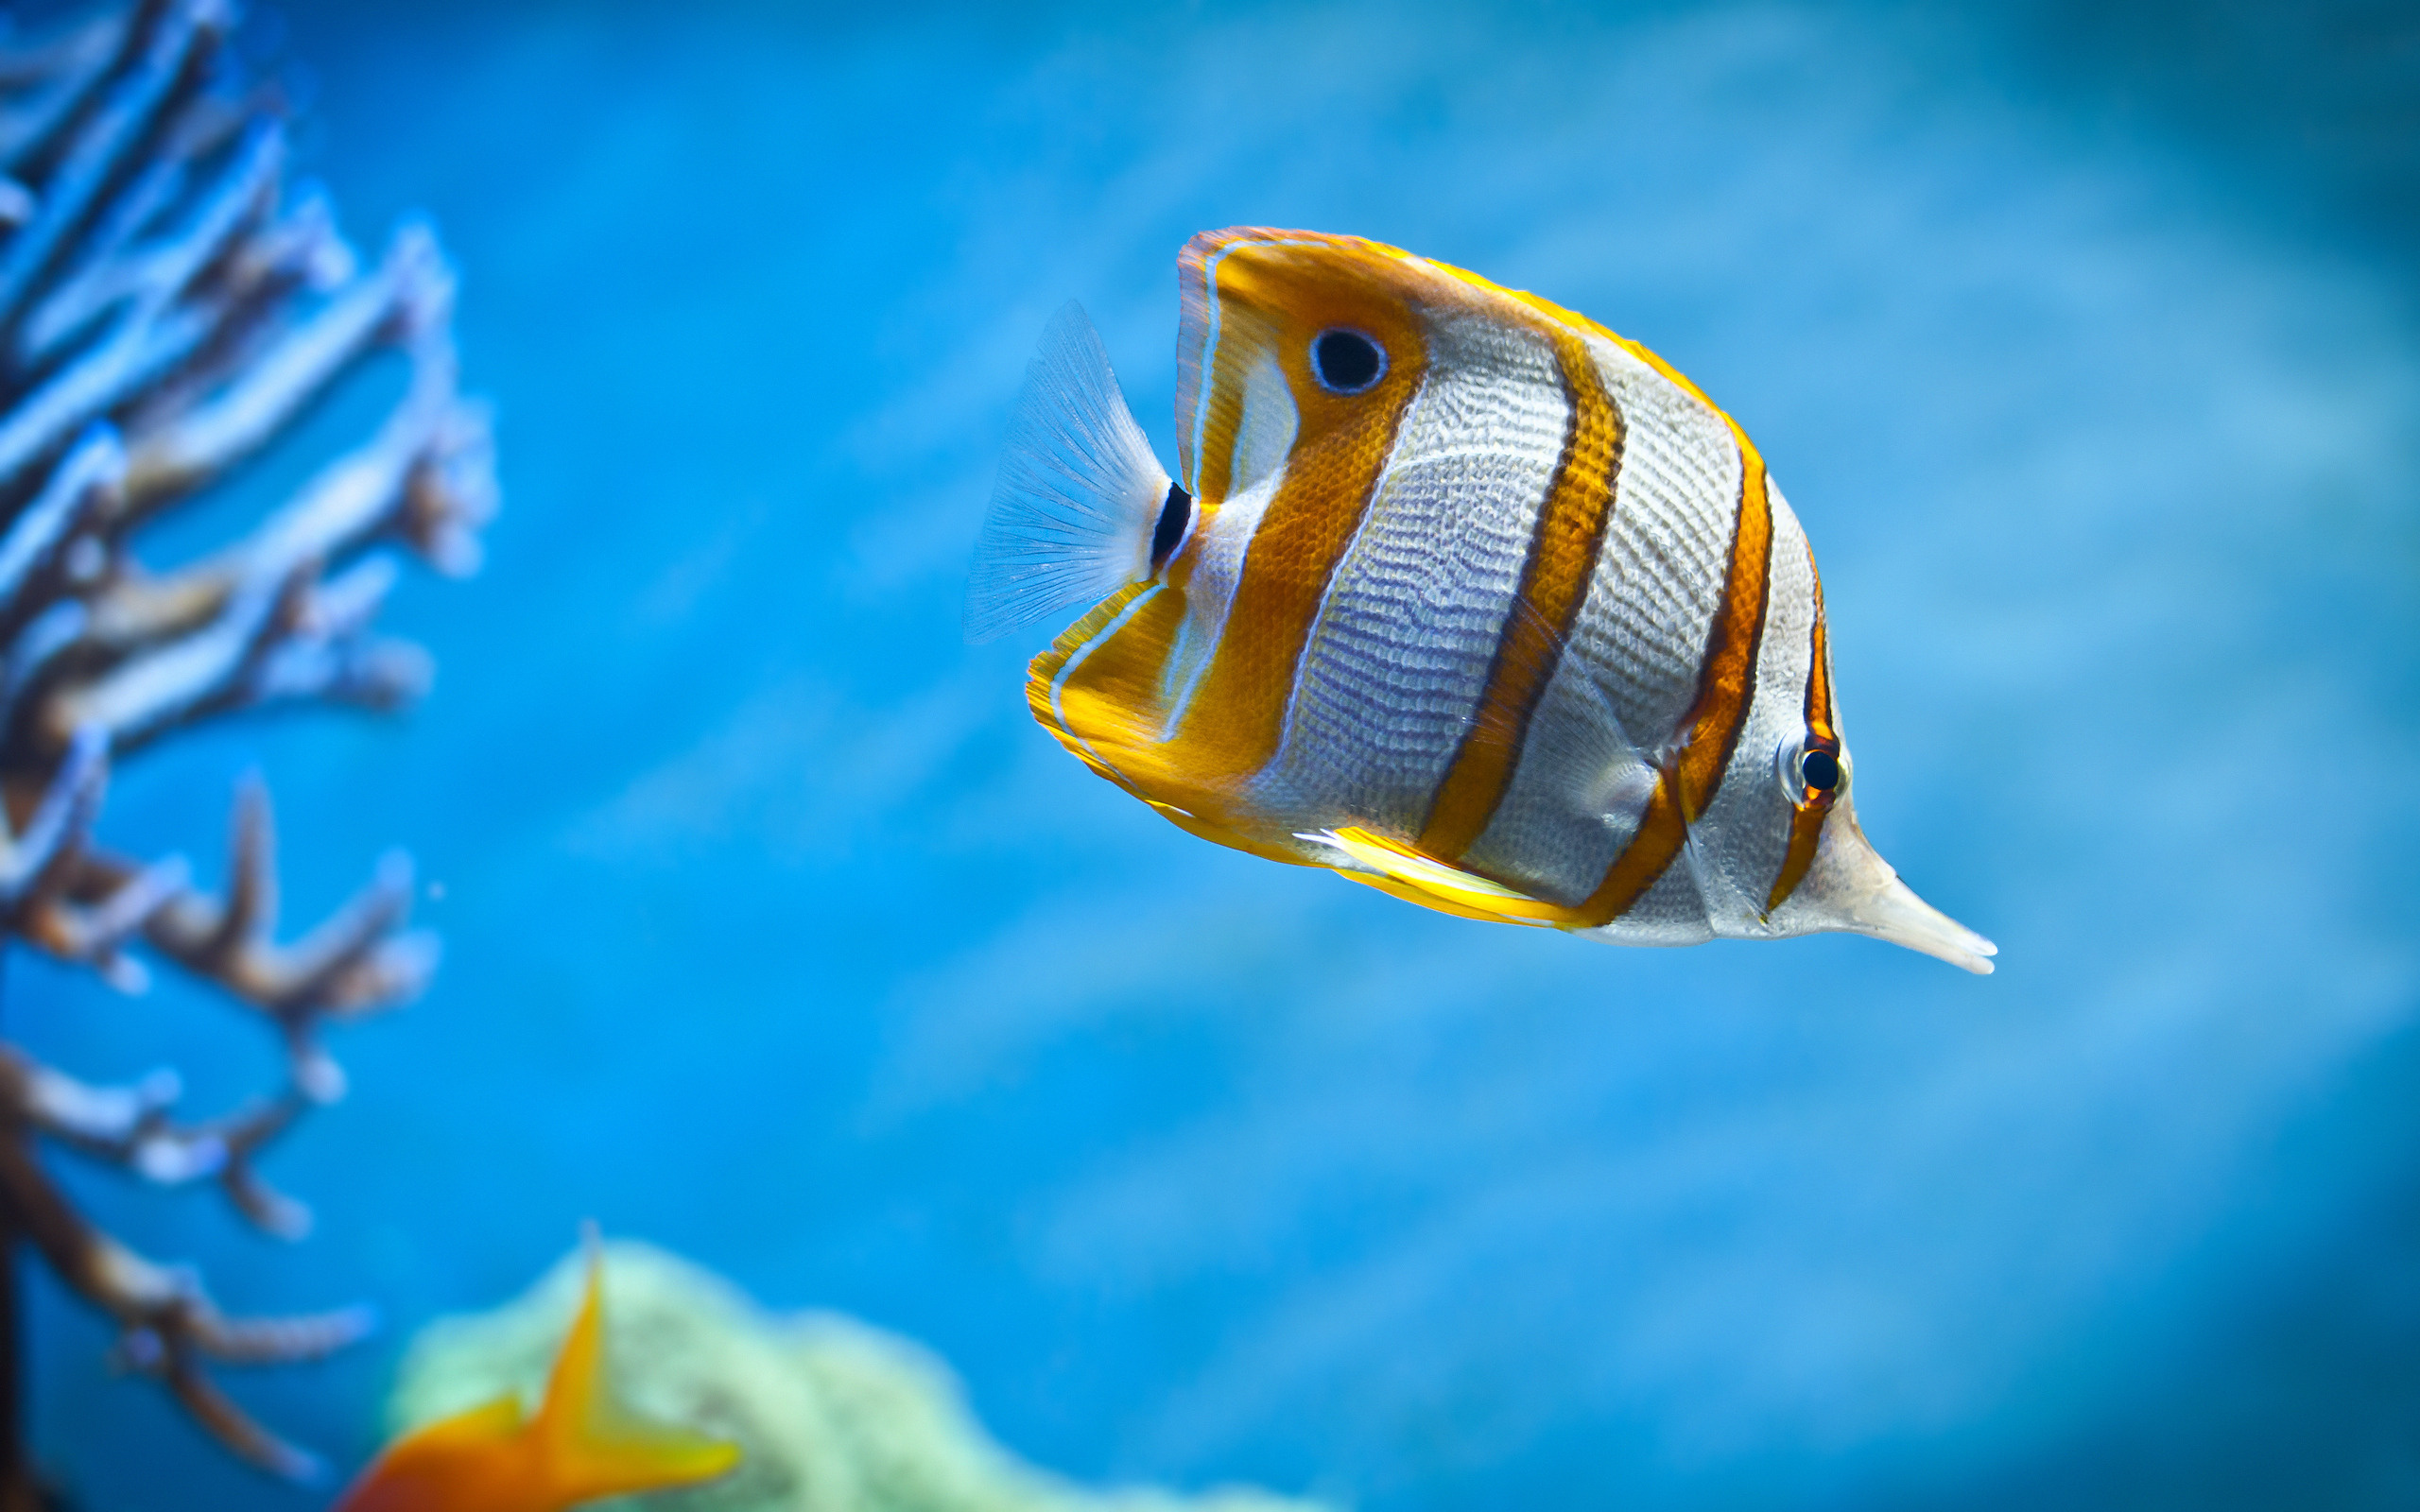fish: (951, 179, 2072, 1024)
